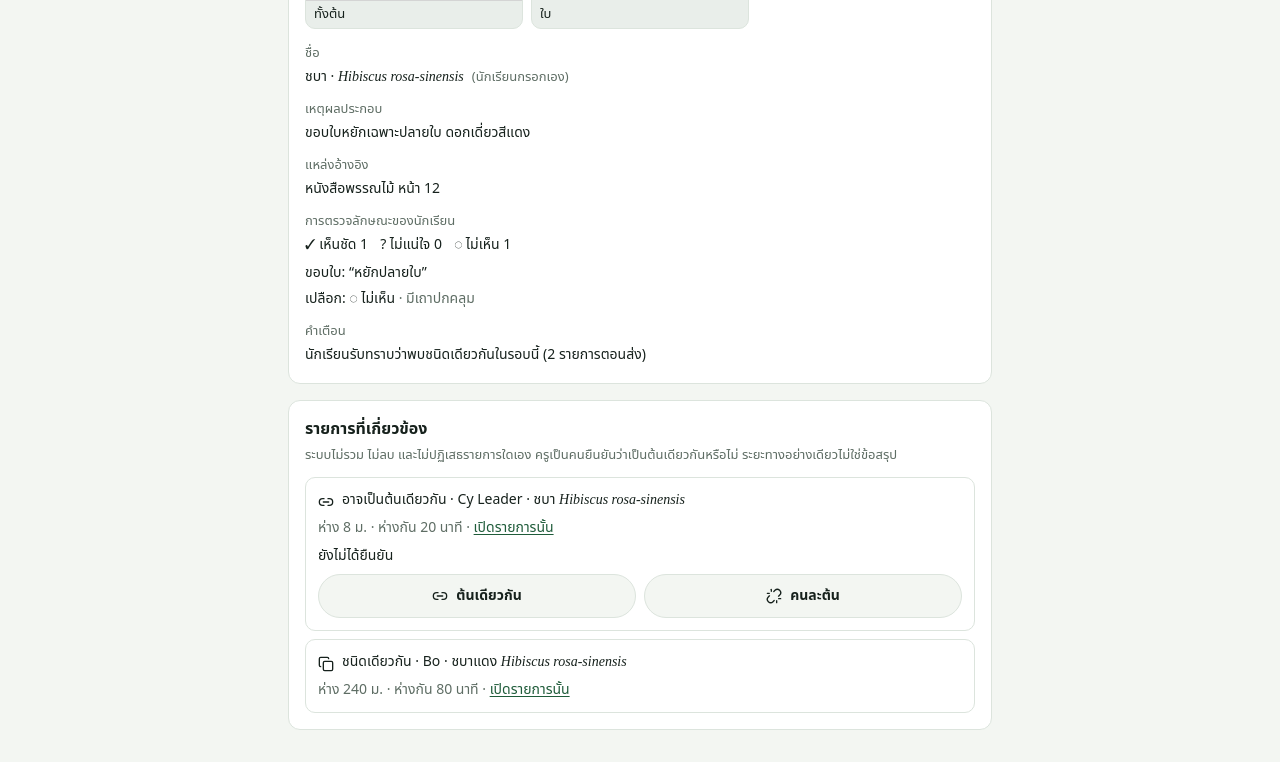
Scenario: TeacherReviewScreen › confirms a possible same specimen with the loaded decision as precondition
This screenshot has width=1280, height=762.
(page scrolled)
expect the list item that starts with "อาจเป็นต้นเดียวกัน" shows "ห่าง 8 ม. · ห่างกัน 20 นาที": met, box [318, 517, 474, 538]
expect the text "ยังไม่ได้ยืนยัน" is shown: met, box [318, 545, 393, 566]
Click the button "ต้นเดียวกัน" at x=477, y=596, box [318, 574, 636, 618]
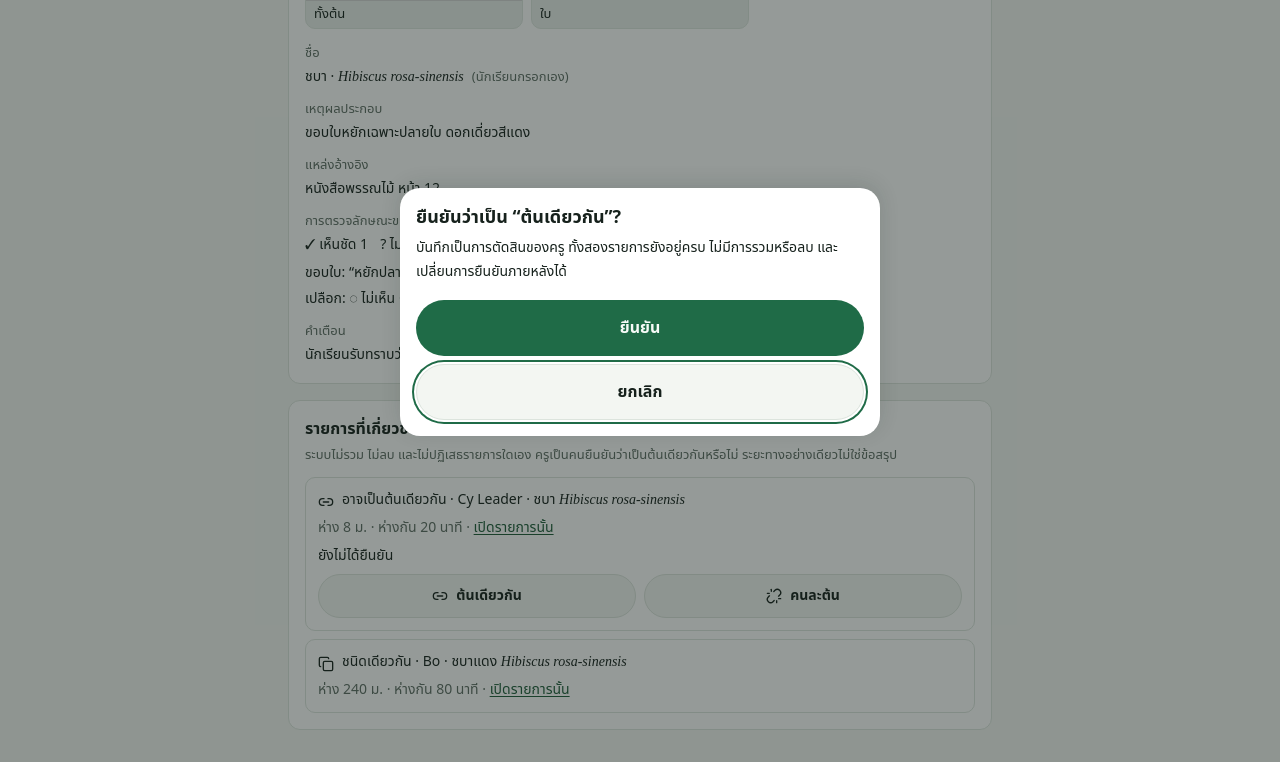
expect the dialog "ยืนยันว่าเป็น “ต้นเดียวกัน”?" shows "ไม่มีการรวมหรือลบ": met, box [416, 237, 838, 282]
Click the button "ยืนยัน" at x=640, y=328, box [416, 300, 864, 356]
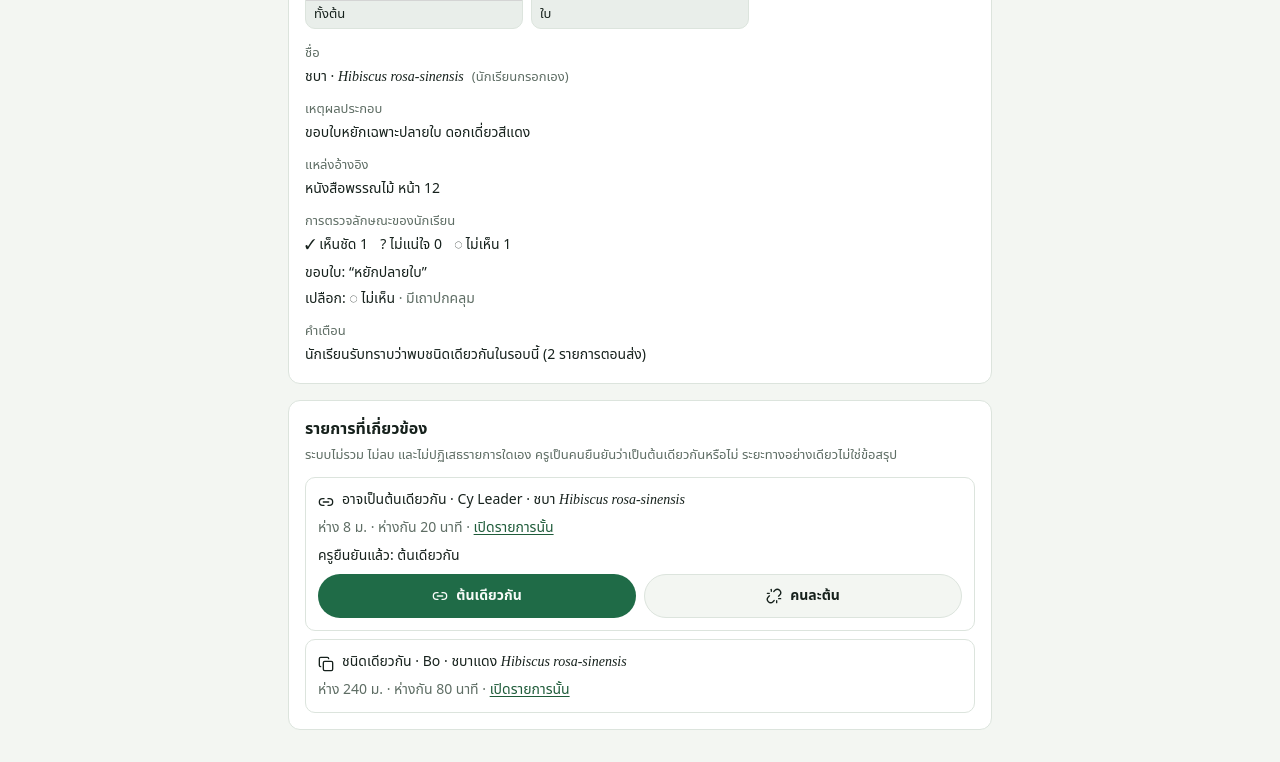
expect the text "ครูยืนยันแล้ว: ต้นเดียวกัน" is shown: met, box [318, 545, 460, 566]
